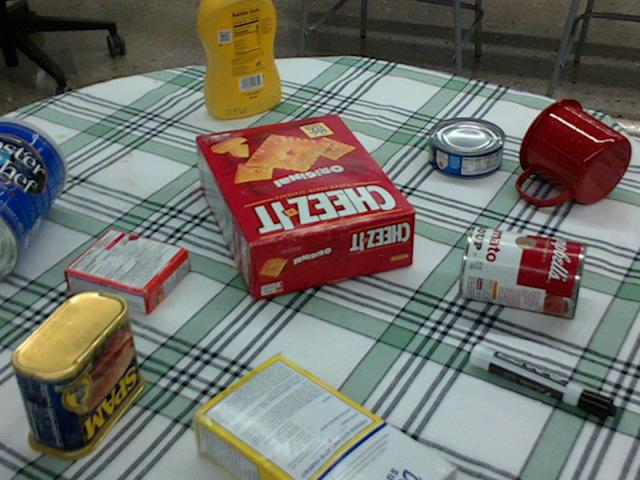cracker_box: (195, 112, 411, 298)
gelatin_box: (65, 227, 189, 315)
large_marker: (470, 343, 616, 422)
master_chef_can: (0, 117, 65, 281)
mug: (517, 98, 629, 206)
mustard_bottle: (197, 0, 280, 118)
potted_meat_can: (11, 289, 143, 457)
sugar_box: (185, 357, 454, 479)
tomato_soup_can: (458, 224, 586, 318)
tuna_fish_can: (428, 117, 505, 178)
